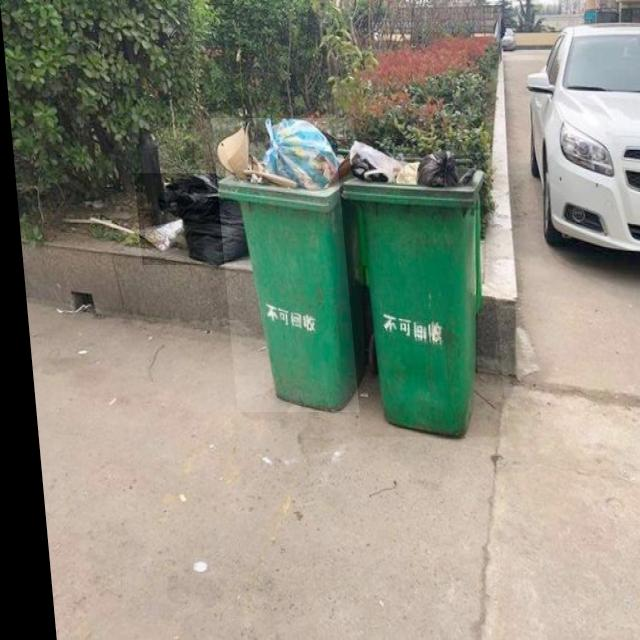garbage: (131, 173, 245, 265)
overflow: (333, 140, 500, 438), (210, 118, 372, 412)
